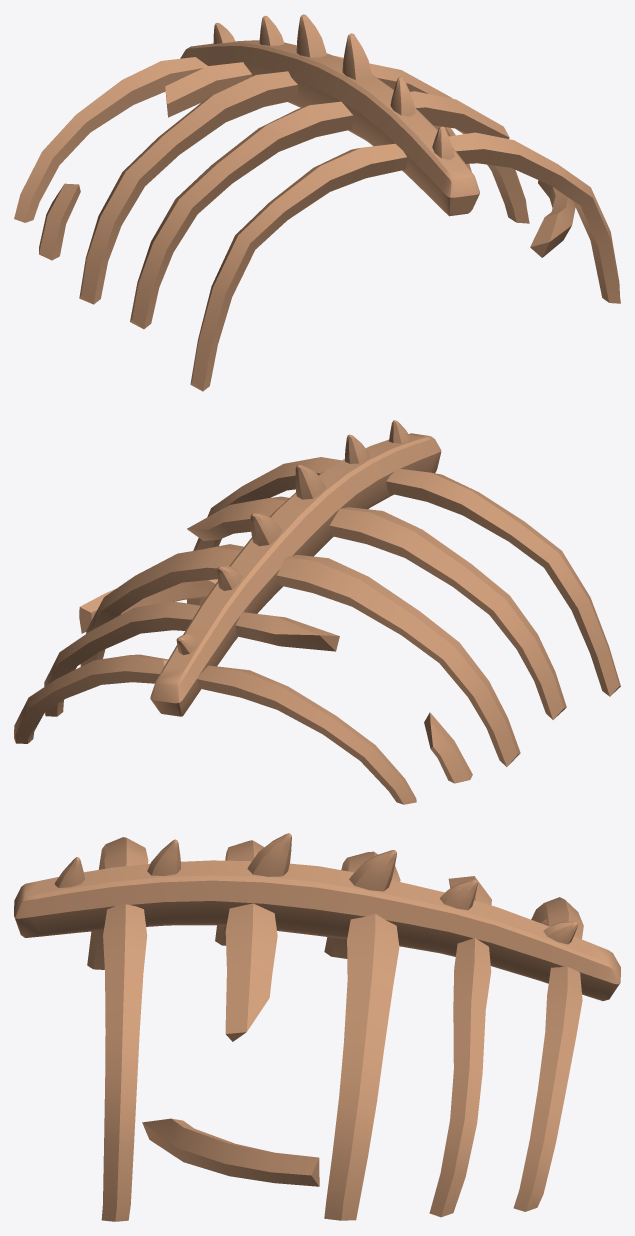
The model's file is Large Bone.glb.
3 views of the same model, one above another, from view 1: azimuth 30°, elevation 25°; view 2: azimuth 150°, elevation 25°; view 3: azimuth 270°, elevation 25° (orthographic). The views are drawn at different scales.
Parts seen in each view (by area): view 1: Environment_LargeBones; view 2: Environment_LargeBones; view 3: Environment_LargeBones.
Boxes of the visible parts, x1,y1,x2,y2 form: Environment_LargeBones: (14, 14, 620, 391); Environment_LargeBones: (14, 420, 620, 804); Environment_LargeBones: (14, 833, 620, 1221).
Bounding box in the file's own units: 6.5 × 3.43 × 6.62.
1 material, 1 textured.
